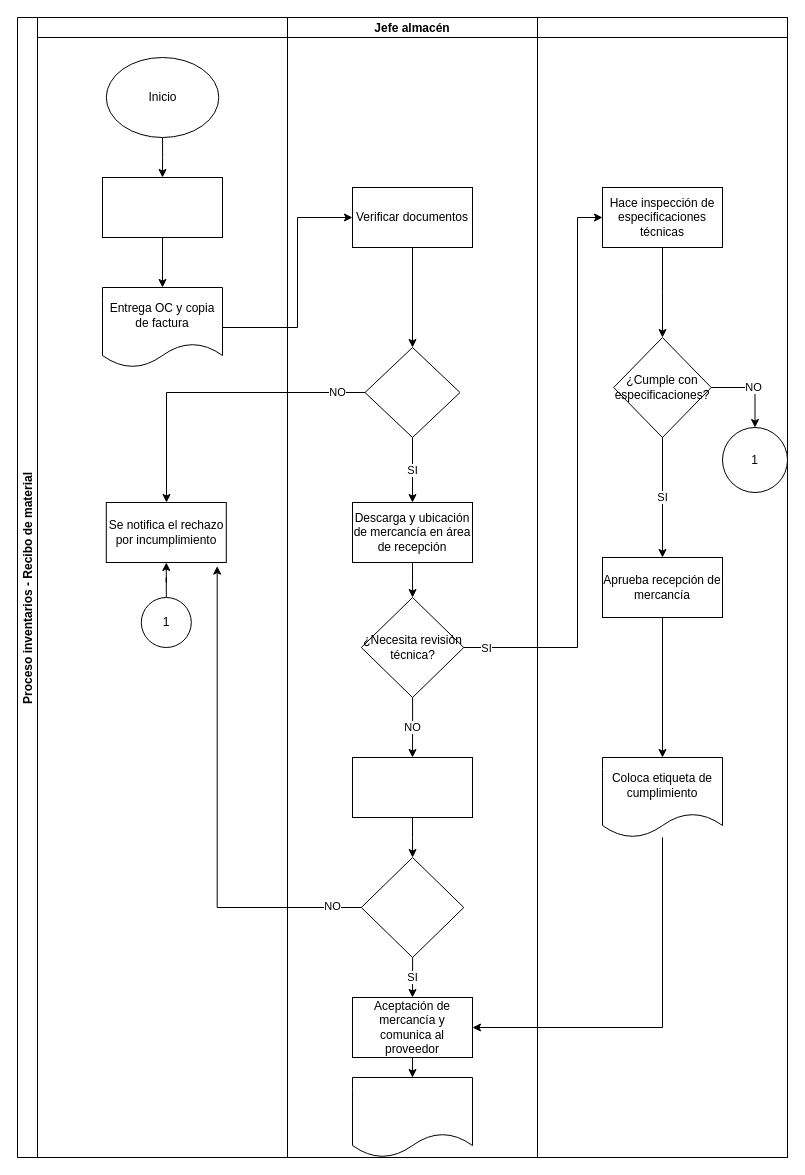
Image size: 805x1175. Some labels were removed from this diagram. The box of each missing label's shape, as (x1, y1, x2, y2) in pixels:
Auxiliar de calidad: (536, 16, 788, 1158)
Llegada de mercancía: (102, 176, 222, 238)
Proveedor: (36, 16, 288, 1158)
Registro de entrada de mercancías: (352, 1076, 472, 1158)
Verifica cuantitativamente la mercancía: (352, 756, 472, 818)
¿Corresponden?: (364, 346, 460, 438)
¿La cantidad es correcta?: (360, 856, 464, 958)
